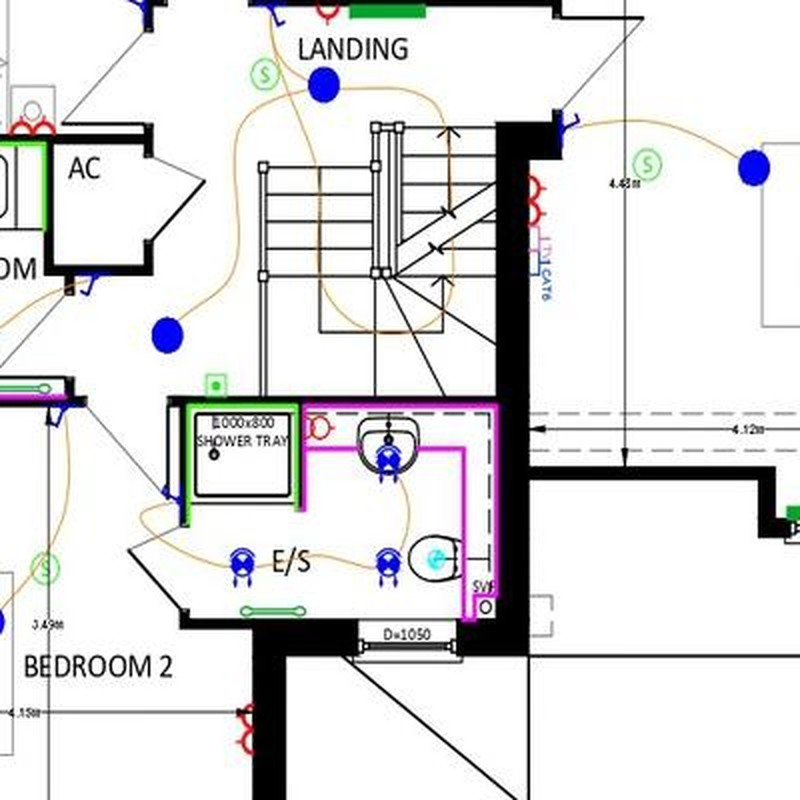Cat 6 Data Socket: (531, 249, 556, 303)
Ceiling Mounted Continuous Extract FanWith Boost Mode Activated By Light Switch: (428, 550, 445, 568)
Co-Ax TV Socket: (529, 226, 554, 259)
Double Socket: (528, 175, 547, 225), (9, 115, 55, 135), (236, 704, 253, 755)
Full Height Tiling: (185, 405, 299, 530)
Light Switch: (260, 4, 287, 28), (48, 408, 71, 427), (562, 114, 581, 135), (161, 486, 180, 507), (81, 277, 99, 297)
Low Energy Downlighter: (375, 548, 402, 588), (375, 446, 403, 483), (230, 548, 255, 588)
Low Energy Pendant Light: (151, 317, 184, 355), (738, 149, 771, 186), (308, 68, 341, 103)
Mains Wired Smoke Detector: (30, 552, 60, 585), (251, 57, 281, 90), (633, 149, 662, 182)
Programmable Room Thermostat: (206, 375, 227, 396)
Radiator: (349, 6, 427, 19), (785, 505, 800, 524)
Shaver Socket: (301, 413, 338, 443)
Single Socket: (310, 3, 341, 27)
